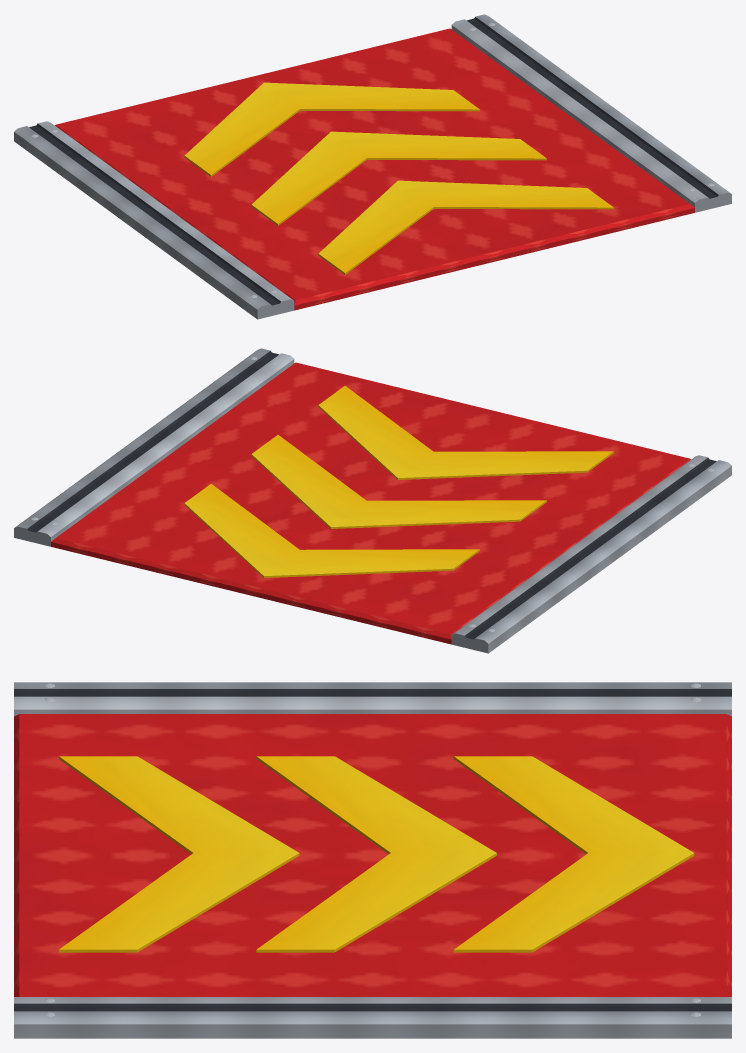
Rendered from Kit_SpeedPad.obj.
The picture shows the model from 3 angles, top to bottom: view 1: azimuth 30°, elevation 25°; view 2: azimuth 150°, elevation 25°; view 3: azimuth 270°, elevation 25°; orthographic projection. The views are drawn at different scales.
Visible parts, largest first — view 1: Kit_SpeedPad; view 2: Kit_SpeedPad; view 3: Kit_SpeedPad.
Part boxes in pixels (x1,y1,x2,y2): Kit_SpeedPad: (14,14,731,319); Kit_SpeedPad: (14,348,731,653); Kit_SpeedPad: (14,682,731,1038).
Bounding box in the file's own units: 18 × 0.495 × 16.
1 material, 1 textured.
